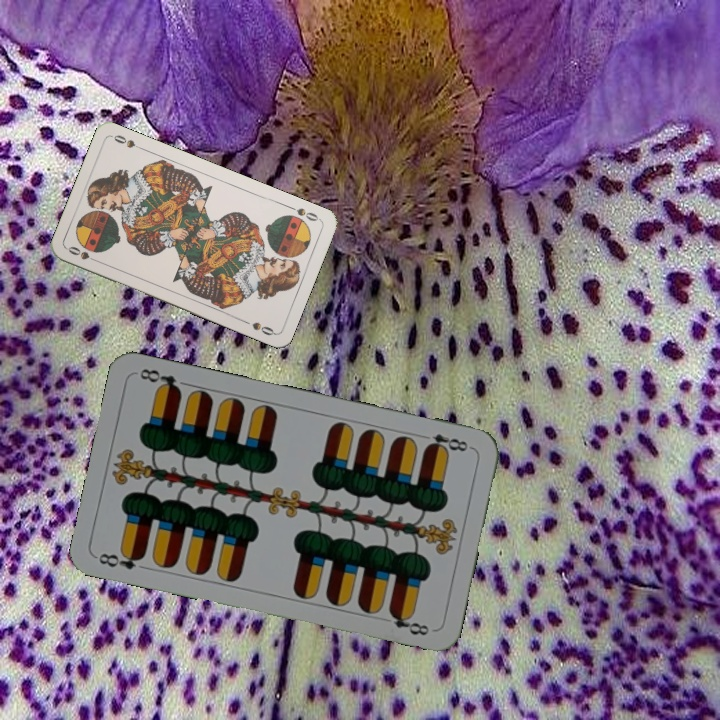E8: (421, 429, 475, 456), (94, 546, 148, 572)
SO: (64, 242, 103, 265), (284, 202, 323, 224)
